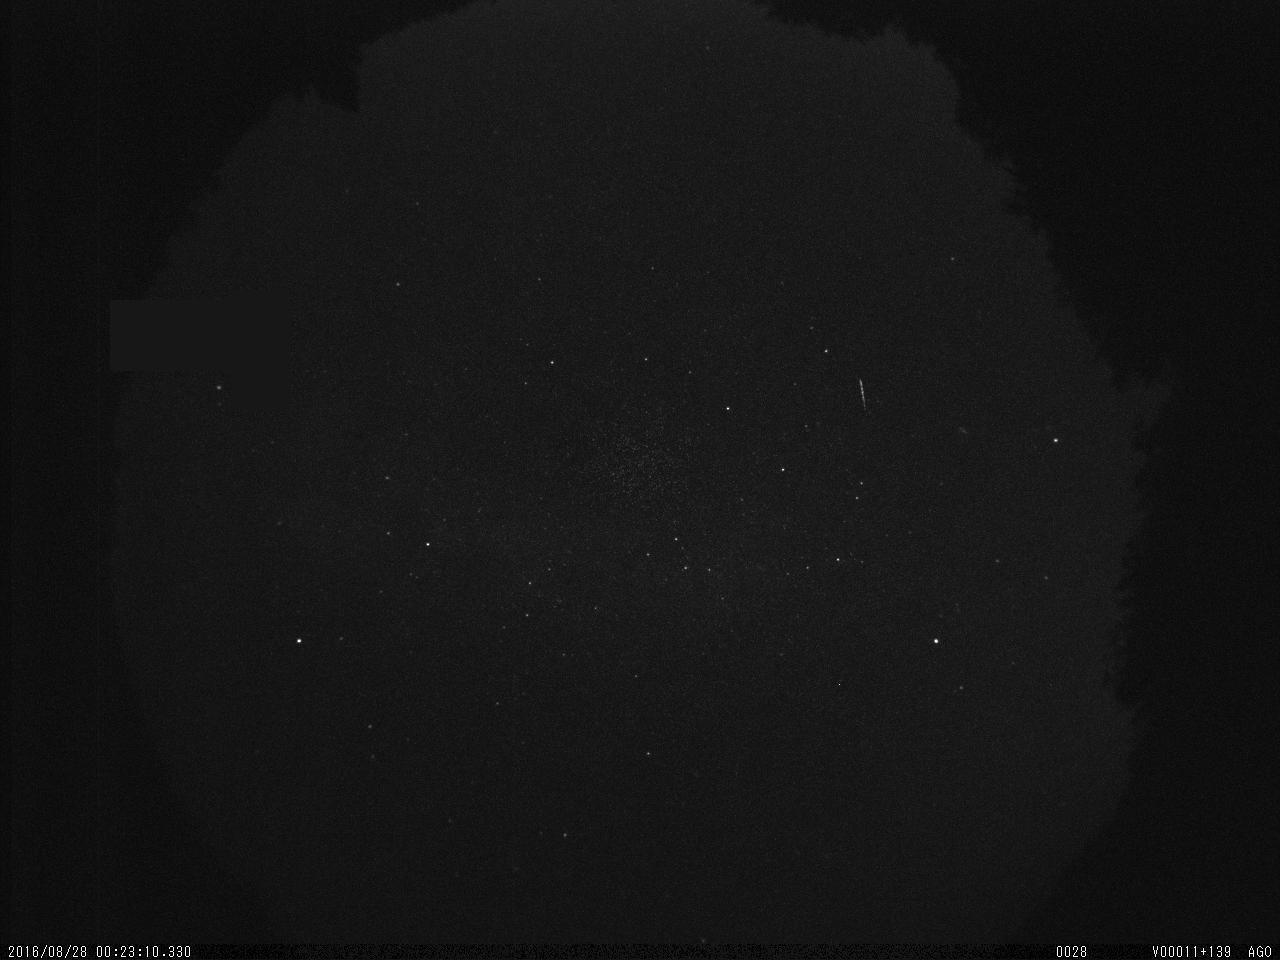meteor: (853, 374, 874, 424)
